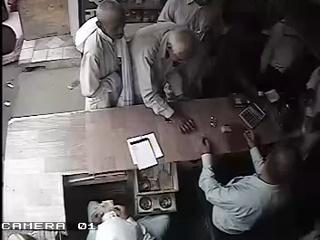Normal: (198, 126, 300, 240), (129, 21, 203, 132), (238, 102, 266, 130)
shoplifting: (76, 0, 132, 111)
